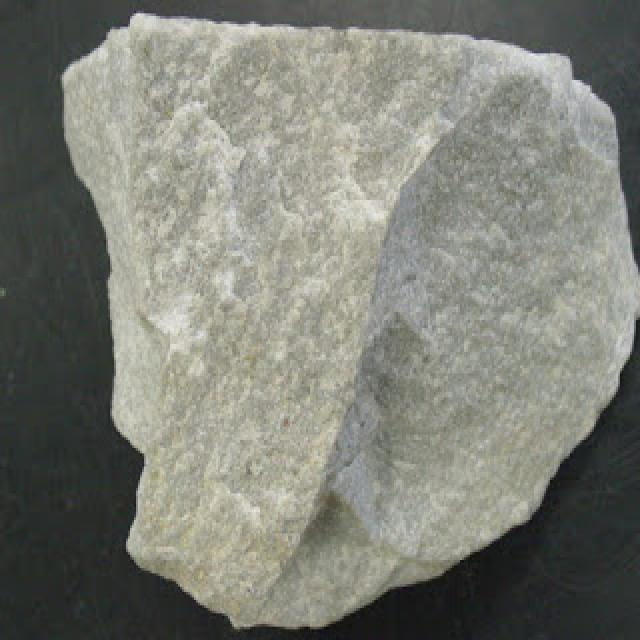Metamorphic: (56, 8, 634, 635)
